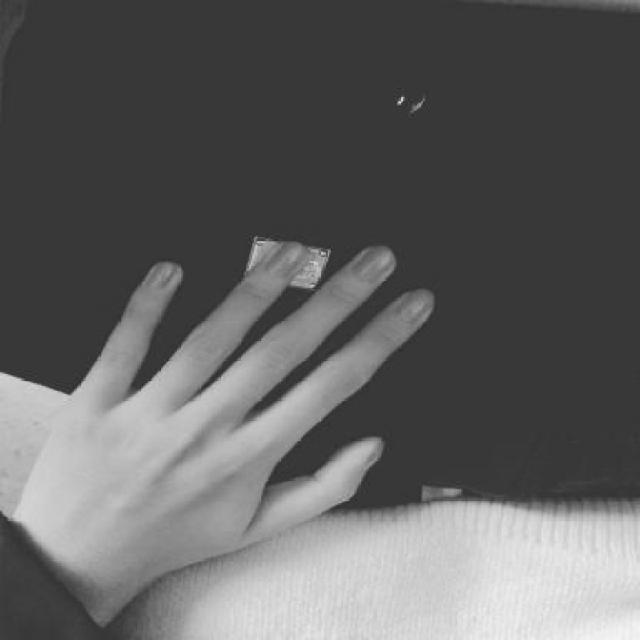hand_noglove: (34, 241, 435, 568)
